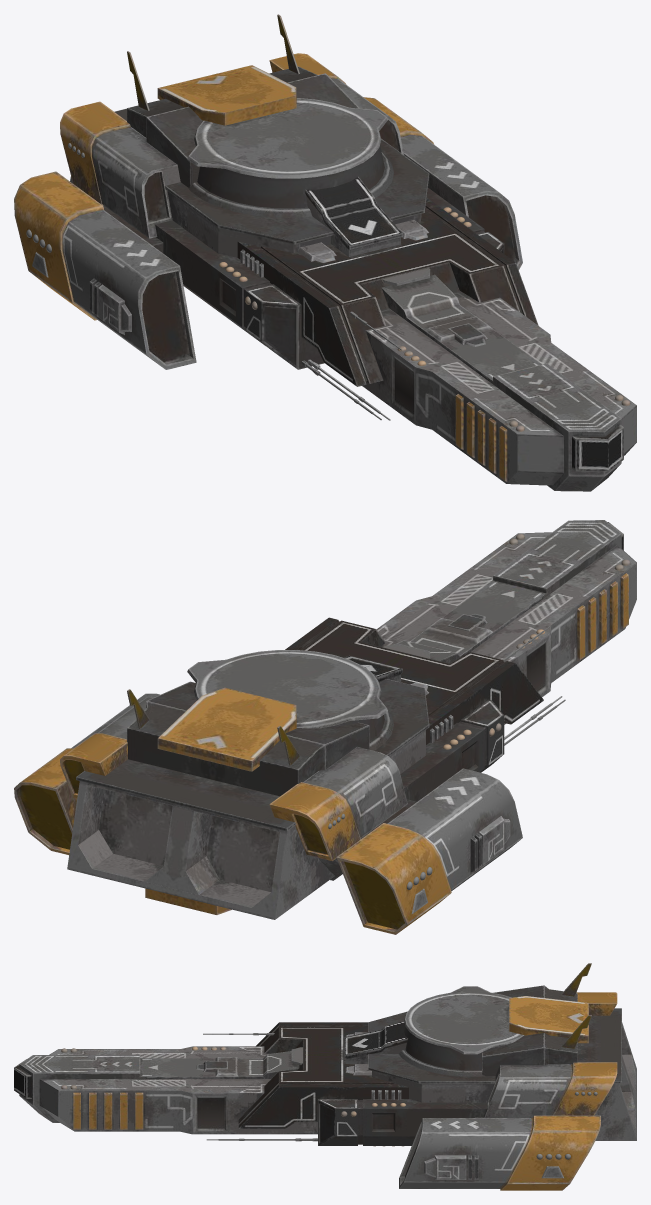
File: Insurgent.gltf
3 renders of one model, top to bottom at view 1: azimuth 30°, elevation 25°; view 2: azimuth 150°, elevation 25°; view 3: azimuth 270°, elevation 25°, orthographic. The views are drawn at different scales.
Parts seen in each view (by area): view 1: Insurgent; view 2: Insurgent; view 3: Insurgent.
Part boxes in pixels (box(x1,y1,x2,y2)): Insurgent: box(14, 14, 636, 491); Insurgent: box(14, 520, 636, 934); Insurgent: box(14, 963, 636, 1190).
Size of the model in its own units: 5.57 by 2.87 by 10.95.
1 material, 1 textured.
